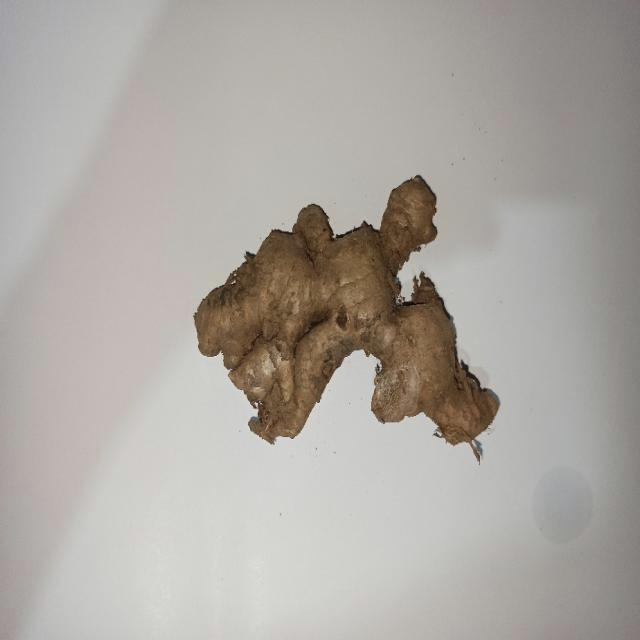ginger: (192, 174, 501, 447)
